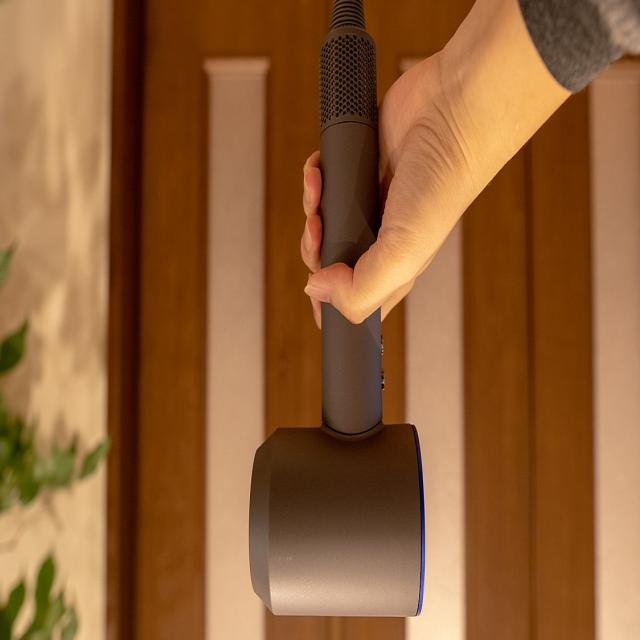dryer: (248, 0, 426, 620)
